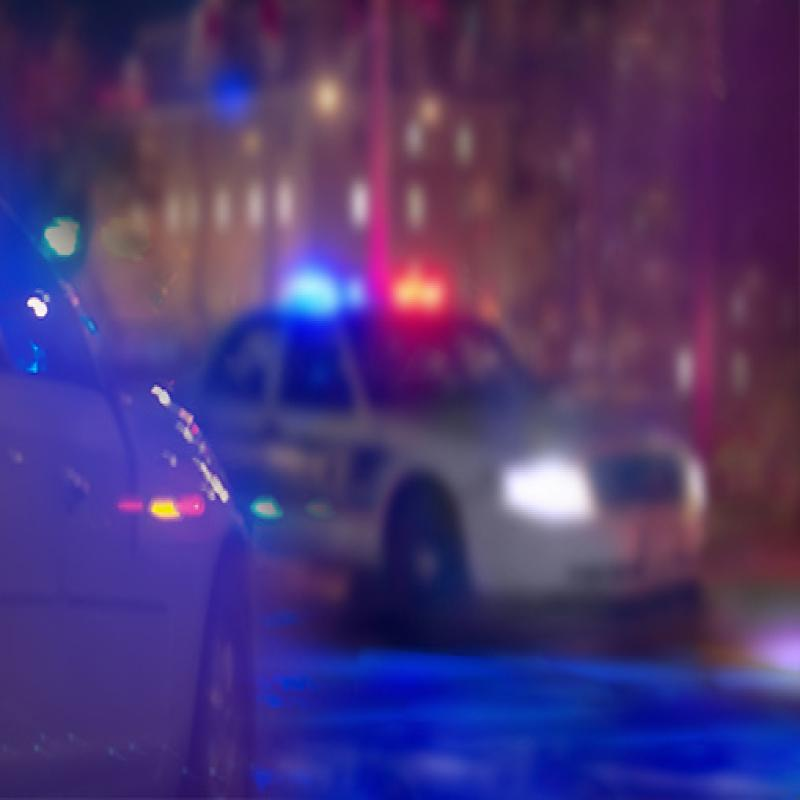AmbulanceSiren: (266, 236, 469, 328)
